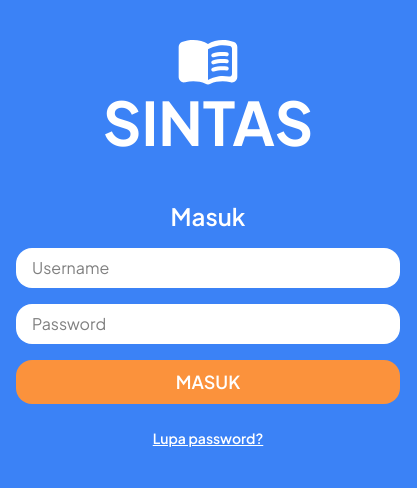
Test: halaman masuk › menampilkan error validasi ketika form kosong disubmit
The image size is (417, 488).
Expected: the heading "Masuk" is shown, [171,200,245,232]
Click the button "Masuk". click: point(208, 382)
box: [16,360,400,404]
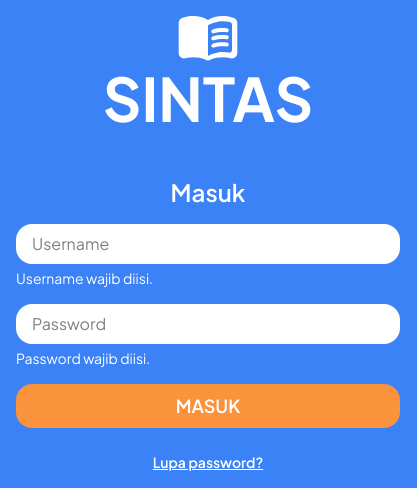
Expected: the text "Username wajib diisi." is shown, [16,269,153,287]
Expected: the text "Password wajib diisi." is shown, [16,349,150,367]
